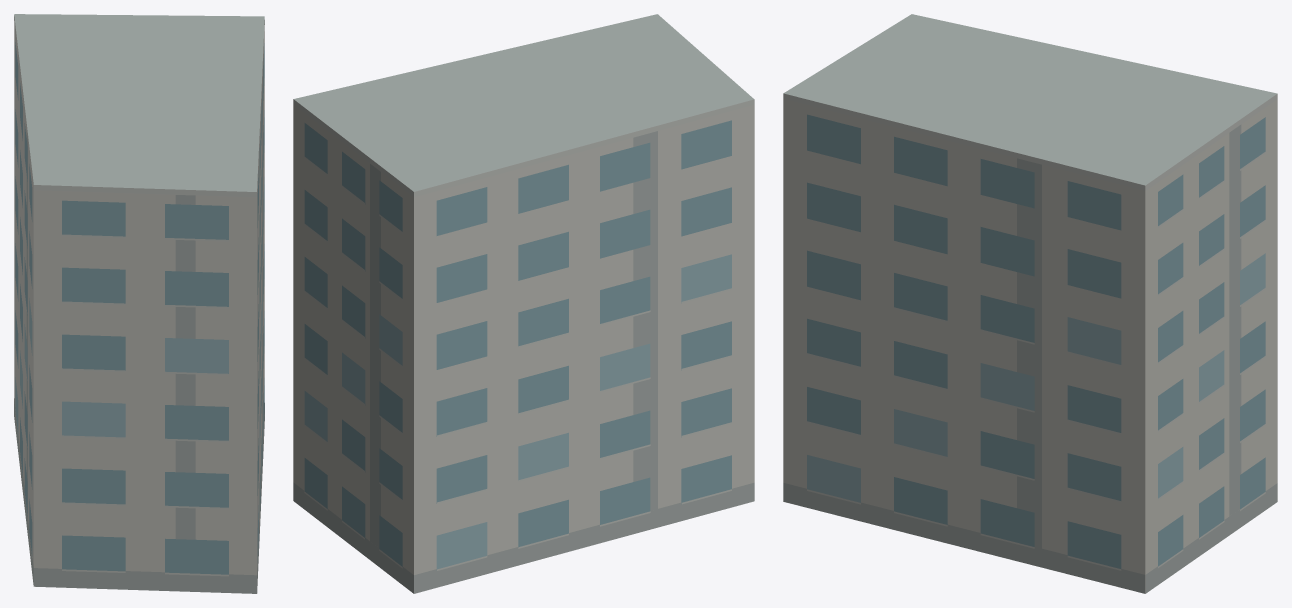
File: survey-upis-33006420.glb
3 renders of one model, left to right at view 1: azimuth 30°, elevation 25°; view 2: azimuth 150°, elevation 25°; view 3: azimuth 270°, elevation 25°, orthographic.
Visible parts, largest first — view 1: survey-upis-33006420.tmp; view 2: survey-upis-33006420.tmp; view 3: survey-upis-33006420.tmp.
Boxes of the visible parts, bbox=[...] form: survey-upis-33006420.tmp: bbox=[14, 14, 264, 593]; survey-upis-33006420.tmp: bbox=[293, 14, 754, 593]; survey-upis-33006420.tmp: bbox=[783, 14, 1277, 593].
Bounding box in the file's own units: 16.5 × 18.3 × 20.09.
